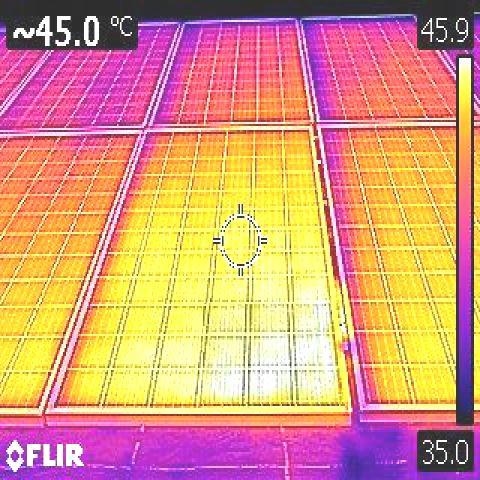fault: (204, 303, 342, 404)
